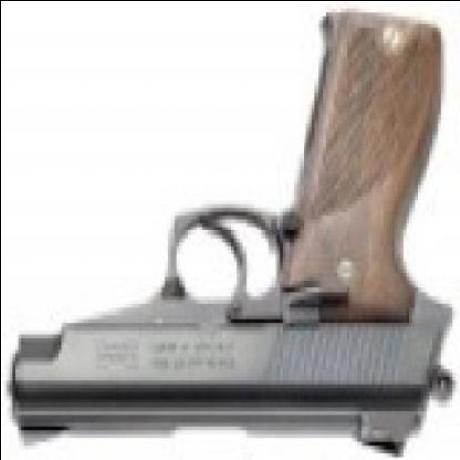weapon: (6, 17, 448, 451)
